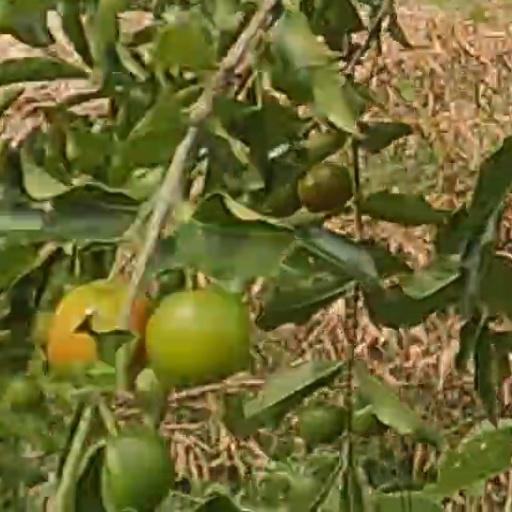acerola: (143, 293, 250, 384), (50, 281, 134, 368), (107, 434, 175, 510), (298, 163, 353, 211)
